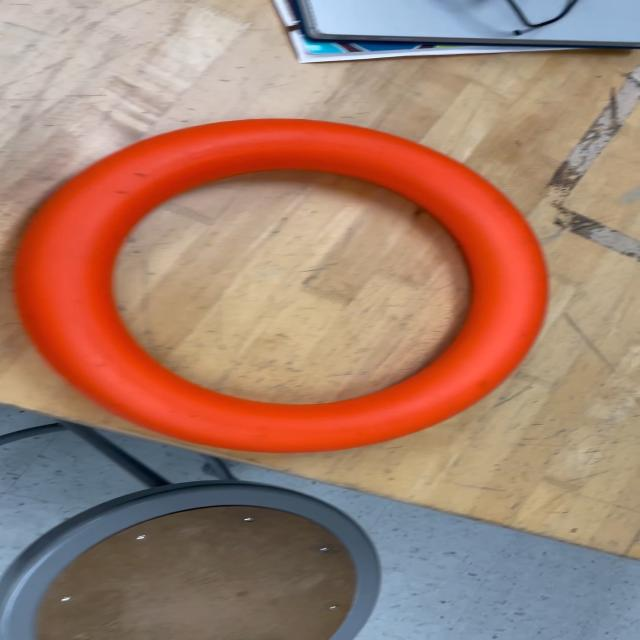note: (6, 117, 554, 452)
